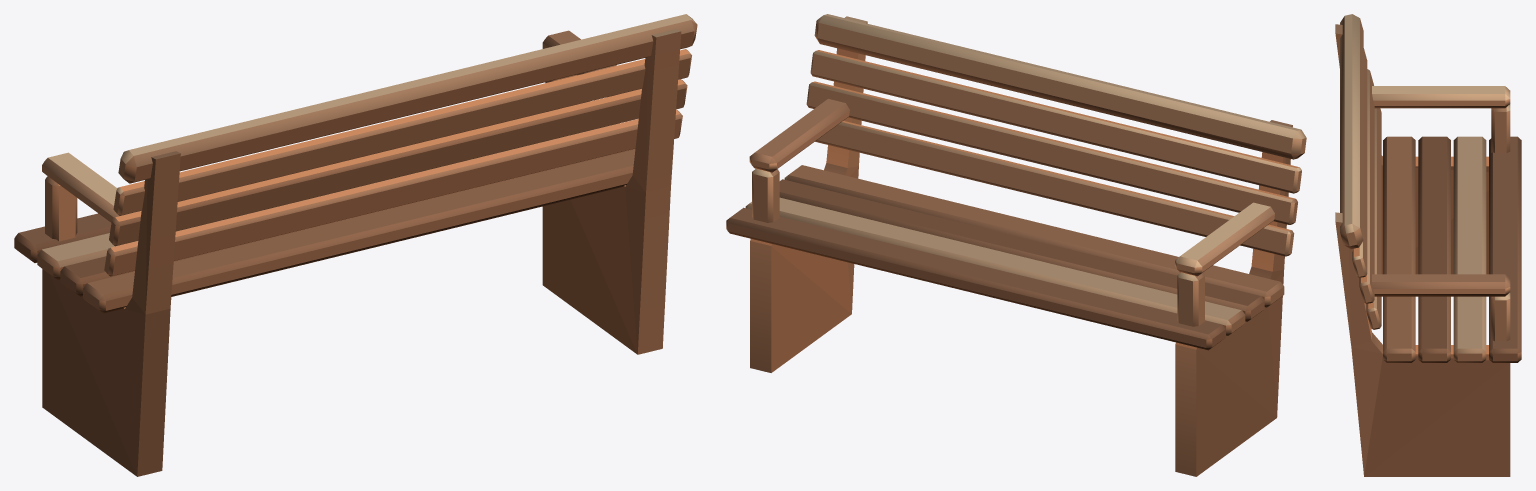
File: seat_bench_v2.glb
The picture shows the model from 3 angles, left to right: view 1: azimuth 30°, elevation 25°; view 2: azimuth 150°, elevation 25°; view 3: azimuth 270°, elevation 25°; orthographic projection. The views are drawn at different scales.
Visible parts, largest first — view 1: body; view 2: body; view 3: body.
Boxes of the visible parts, x1,y1,x2,y2 form: body: (14, 14, 697, 476); body: (726, 14, 1306, 476); body: (1335, 14, 1521, 476).
Size of the model in its own units: 1.6 by 0.8993 by 0.585.
